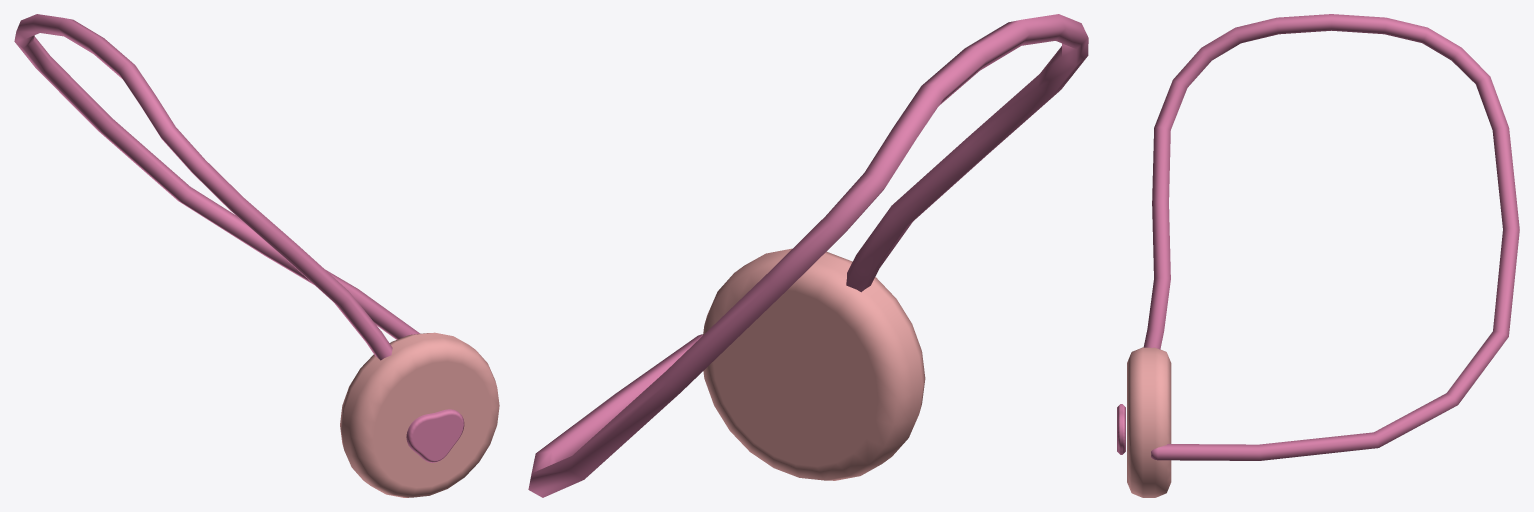
The model's file is dreamy_ribbon_pochette.glb.
3 views of the same model, side by side, from view 1: azimuth 30°, elevation 25°; view 2: azimuth 150°, elevation 25°; view 3: azimuth 270°, elevation 25° (orthographic). The views are drawn at different scales.
Parts seen in each view (by area): view 1: dreamy_ribbon_pochette_Body; view 2: dreamy_ribbon_pochette_Body; view 3: dreamy_ribbon_pochette_Body.
Boxes of the visible parts, box(x1,y1,x2,y2) form: dreamy_ribbon_pochette_Body: box(14, 14, 499, 497); dreamy_ribbon_pochette_Body: box(528, 14, 1088, 497); dreamy_ribbon_pochette_Body: box(1117, 14, 1519, 497).
Bounding box in the file's own units: 0.3533 × 0.4741 × 0.4526.
